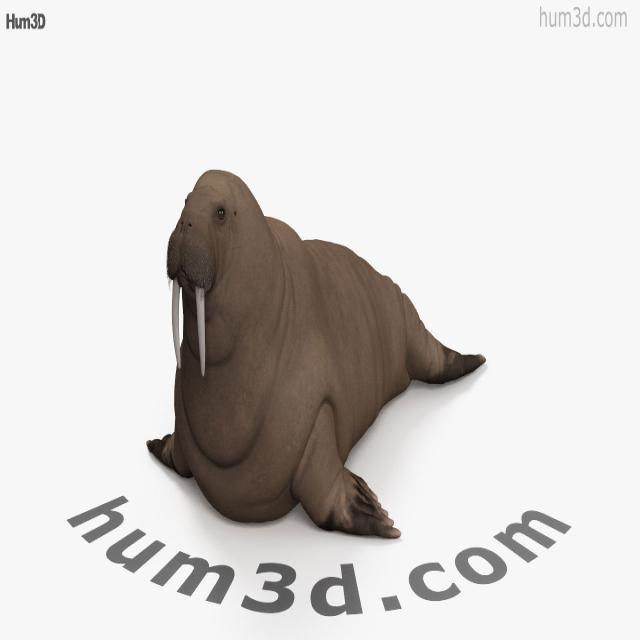walrus: (156, 145, 472, 535)
